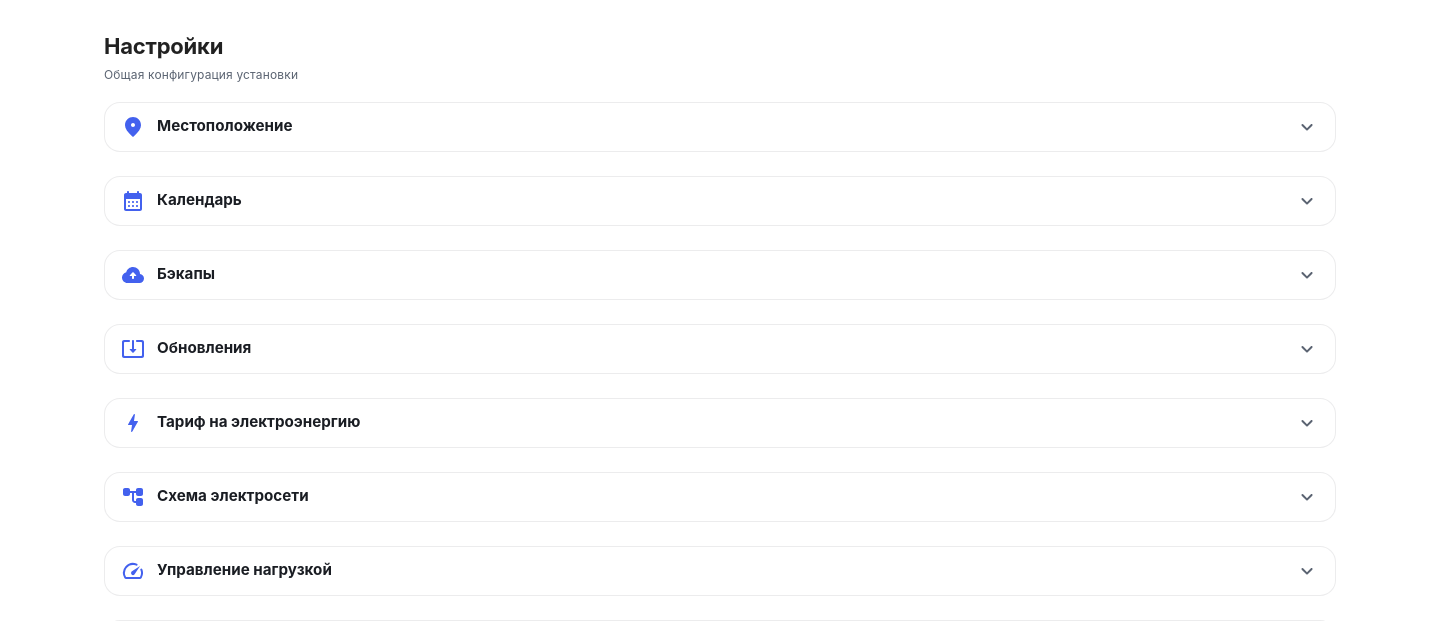
Test case: Settings page › lists backup bundles with the schedule loaded
Click the button "Бэкапы".
click(186, 274)  # box [105,251,1335,299]
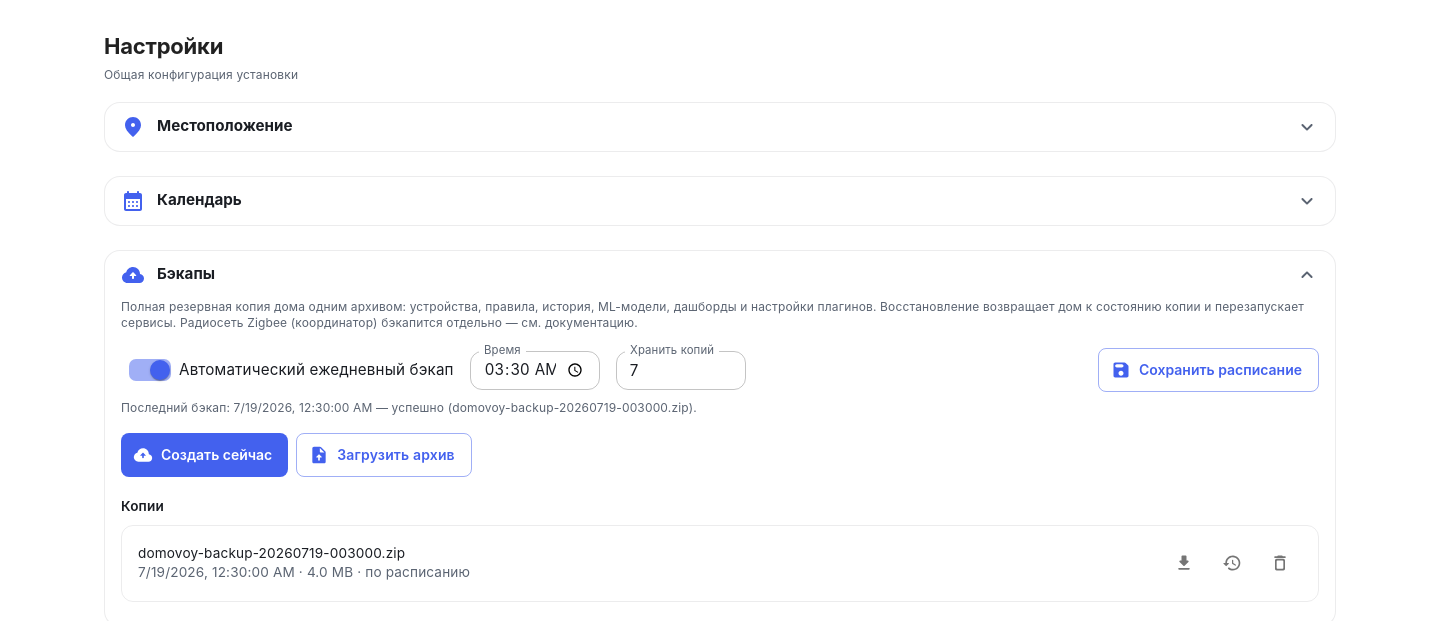
Now the text "domovoy-backup-20260719-003000.zip" is shown, box [138,545,405,561]
Now the time field showing "03:30" is shown, box [470,351,600,390]
